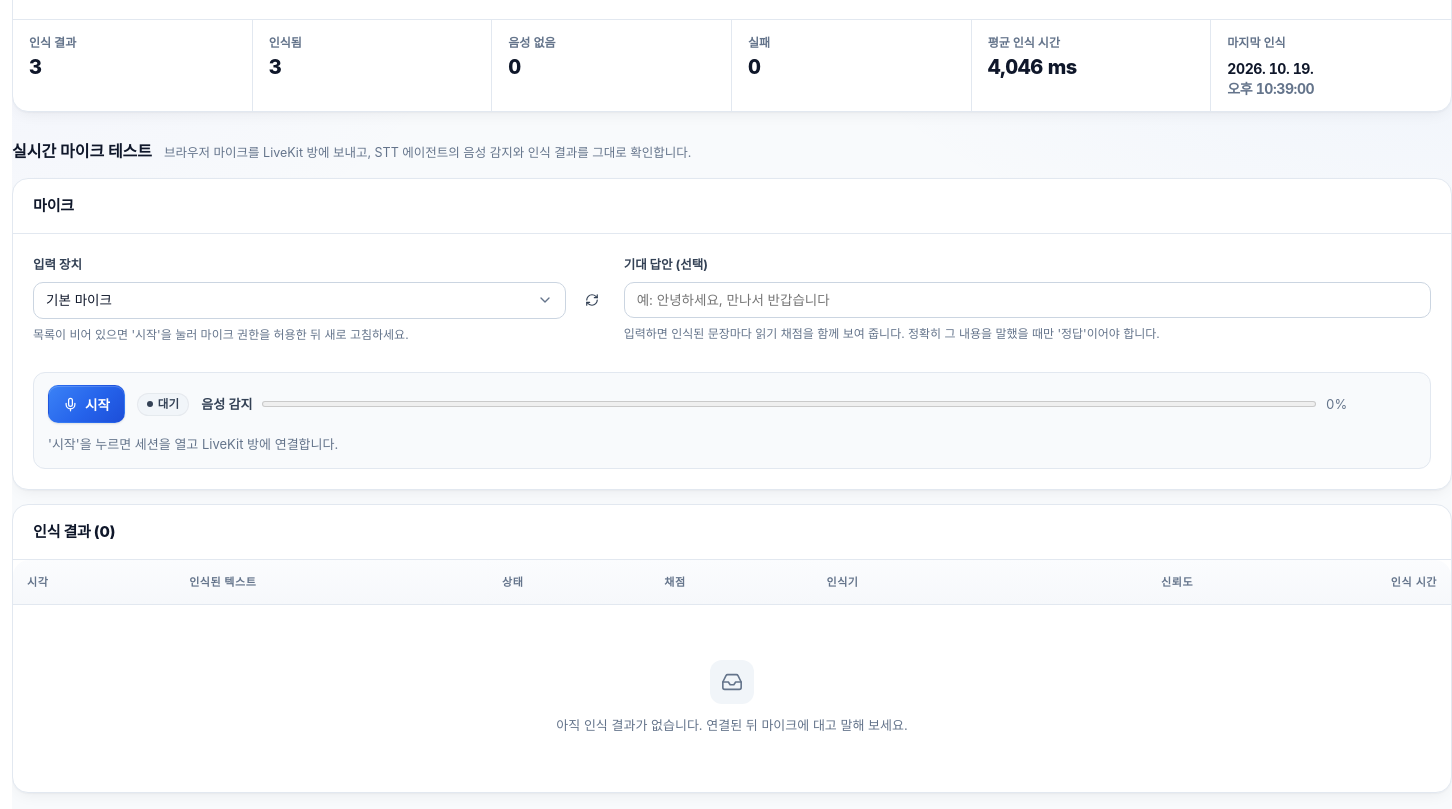
it: 실시간 마이크 테스트 › offers the upload test when realtime speech is unavailable
The width and height of the screenshot is (1452, 809).
(page scrolled)
Click the button "시작": (86, 404) [48,386,125,424]
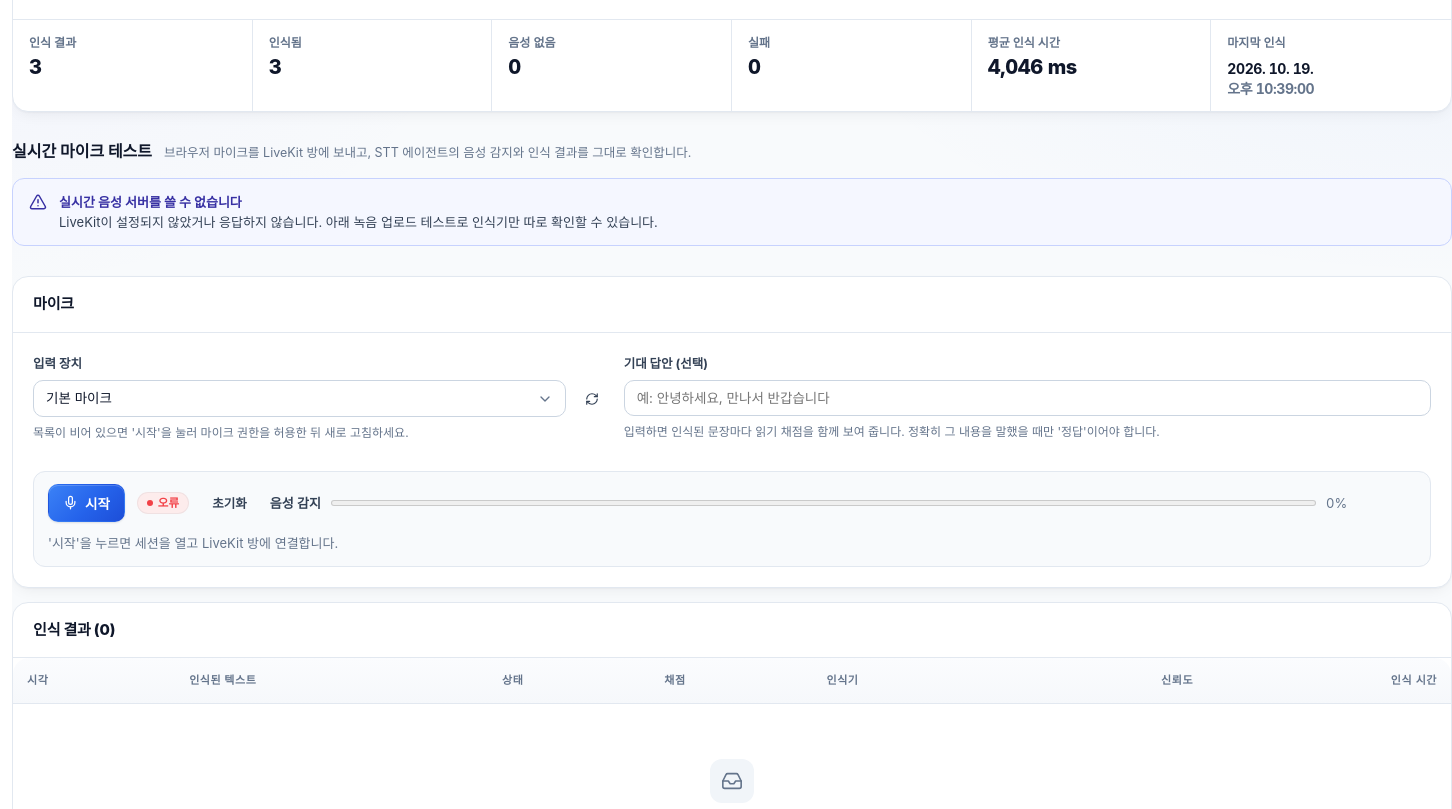
Result: the text "실시간 음성 서버를 쓸 수 없습니다" is shown at [59,194,242,210]
Result: the text "아래 녹음 업로드 테스트로 인식기만 따로 확인할 수 있습니다" is shown at [59,214,658,230]
Result: the text "오류" is shown at [137,492,189,514]
